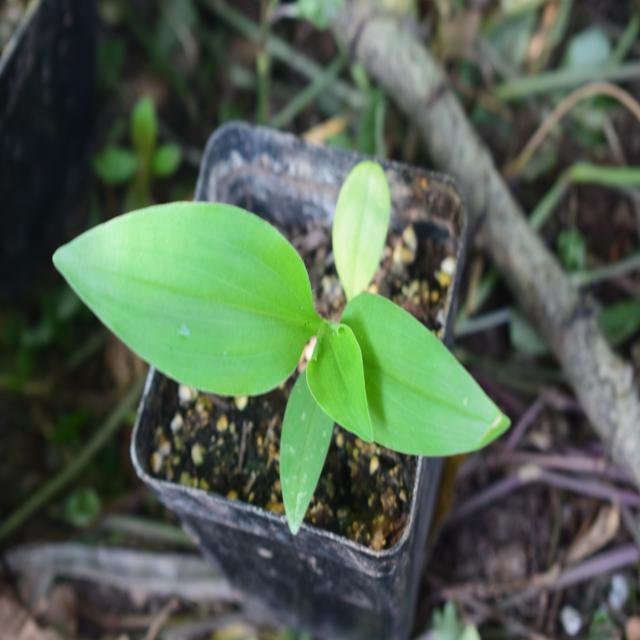Common Dayflower: (59, 182, 508, 520)
